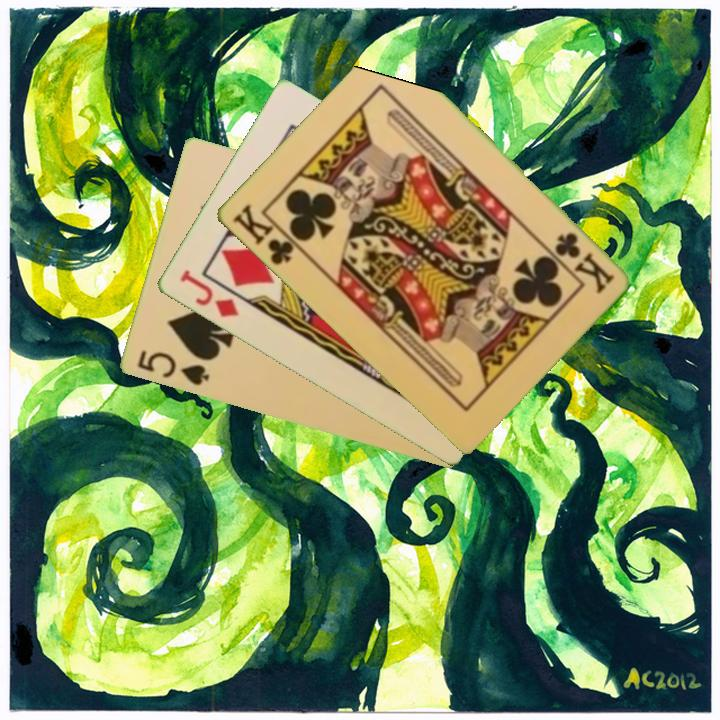5s: (133, 346, 212, 389)
Jd: (175, 266, 241, 321)
Kc: (228, 200, 305, 269), (550, 228, 617, 295)
